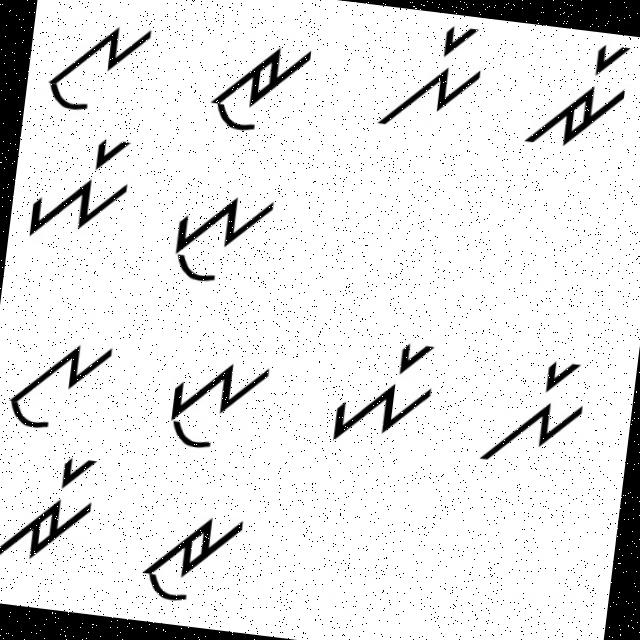lar: (472, 346, 604, 478), (375, 12, 498, 146)
law: (3, 323, 119, 442), (39, 12, 157, 122)
rar: (522, 32, 640, 162), (0, 444, 107, 579)
raw: (198, 32, 319, 148), (139, 495, 252, 614)
yar: (322, 320, 444, 458), (23, 120, 140, 252)
yaw: (154, 337, 276, 463), (162, 175, 283, 298)
